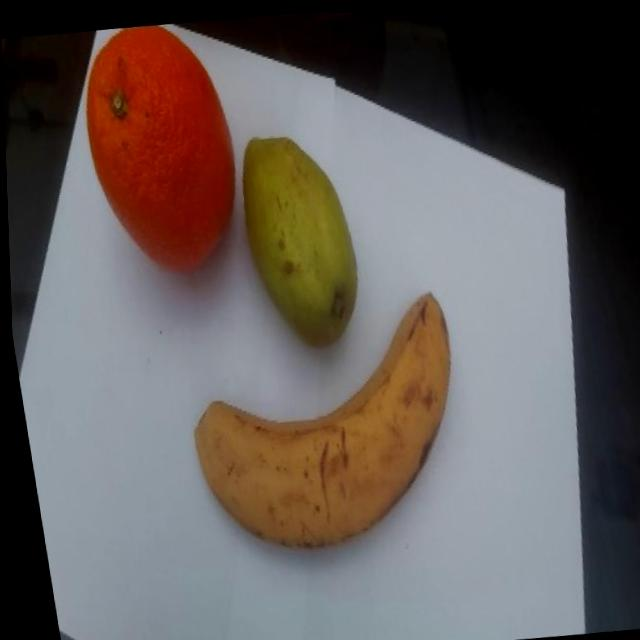Banana: (169, 277, 477, 567)
Orange: (65, 13, 252, 290)
